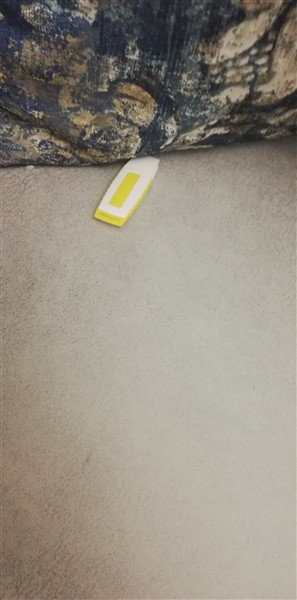flash disk: (91, 150, 170, 231)
